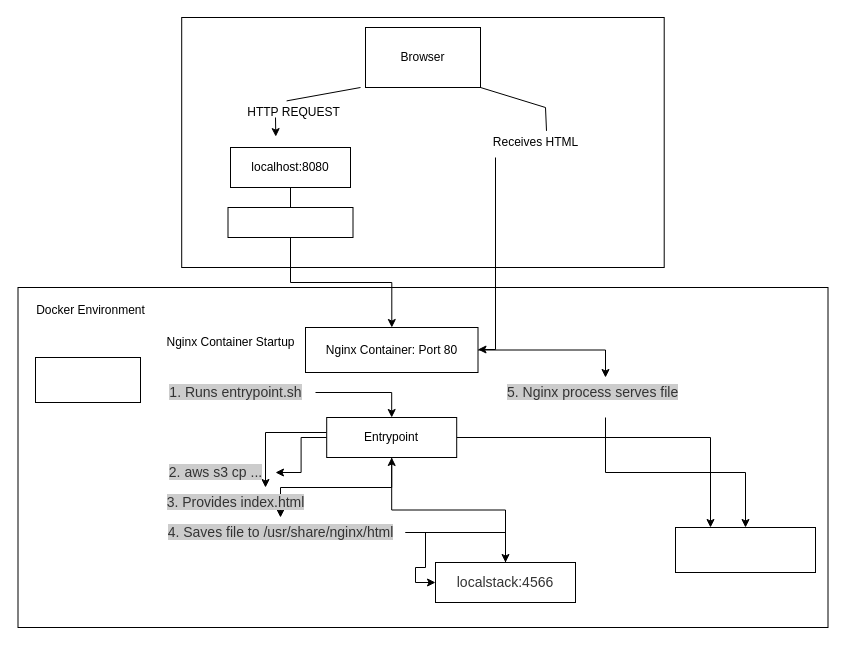
The diagram is 845 pixels wide and 645 high, and some of its shapes have lost their labels. Here are the shapes that lost their labels. From the top down, the centre of each, then its label:
At point (290, 222): "Port Mappng".
At point (87, 379): "Local stack S3".
At point (745, 549): "Container's Filesystem".
